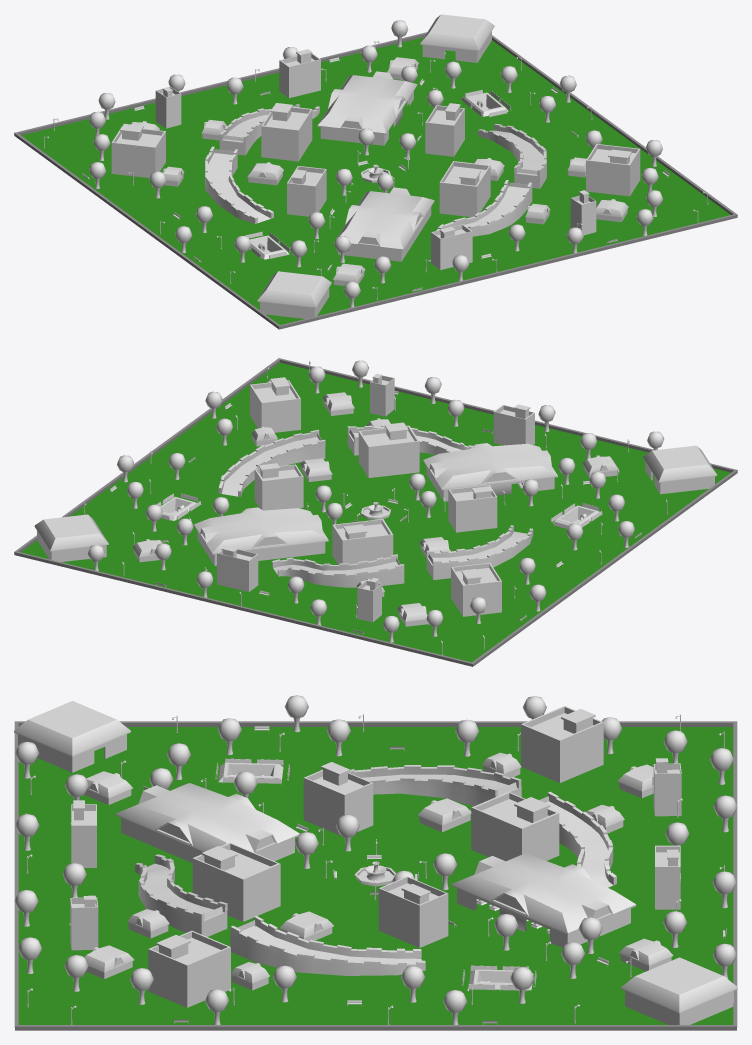
Rendered from map_MK2.fbx.
The picture shows the model from 3 angles, top to bottom: view 1: azimuth 30°, elevation 25°; view 2: azimuth 150°, elevation 25°; view 3: azimuth 270°, elevation 25°; orthographic projection. The views are drawn at different scales.
Visible parts, largest first — view 1: floor, buliding (×5), wall, Roof_A01, Roof_B01, buliding005, buliding001, ascent01, ascent02, ascent003, Roof_B00, Roof_A00 (+11 smaller); view 2: floor, buliding (×5), wall, Roof_B01, Roof_A01, ascent004, ascent003, ascent01, buliding005, buliding001, buliding002, Roof_B00 (+12 smaller); view 3: floor, buliding (×5), wall, Roof_A01, Roof_B01, ascent003, family home (×5), buliding005, buliding001, ascent01, buliding002, ascent02 (+17 smaller).
Boxes of the visible parts, <box> form: floor: <box>21,37,730,324</box>; buliding (×5): <box>111,123,596,269</box>; wall: <box>14,32,737,329</box>; Roof_A01: <box>317,71,417,134</box>; Roof_B01: <box>338,187,434,250</box>; buliding005: <box>261,103,312,161</box>; buliding001: <box>586,144,640,196</box>; ascent01: <box>205,146,273,223</box>; ascent02: <box>436,180,532,236</box>; ascent003: <box>478,124,546,188</box>; Roof_B00: <box>257,271,331,308</box>; Roof_A00: <box>420,14,494,51</box>; floor: <box>21,362,730,662</box>; buliding (×5): <box>358,374,534,616</box>; wall: <box>14,358,737,666</box>; Roof_B01: <box>423,443,557,490</box>; Roof_A01: <box>194,507,328,554</box>; ascent004: <box>272,554,404,587</box>; ascent003: <box>218,429,325,496</box>; ascent01: <box>426,525,533,580</box>; buliding005: <box>332,519,393,564</box>; buliding001: <box>250,377,300,432</box>; buliding002: <box>254,463,303,510</box>; Roof_B00: <box>643,445,717,482</box>; floor: <box>18,727,733,1024</box>; buliding (×5): <box>70,706,603,950</box>; wall: <box>14,721,737,1030</box>; Roof_A01: <box>451,853,636,934</box>; Roof_B01: <box>115,783,299,853</box>; ascent003: <box>230,916,425,975</box>; family home (×5): <box>84,752,521,979</box>; buliding005: <box>471,792,559,861</box>; buliding001: <box>148,930,230,1007</box>; ascent01: <box>348,765,521,806</box>; buliding002: <box>378,876,448,947</box>; ascent02: <box>135,854,227,936</box>.
Size of the model in its own units: 15177 by 1362 by 15177.
